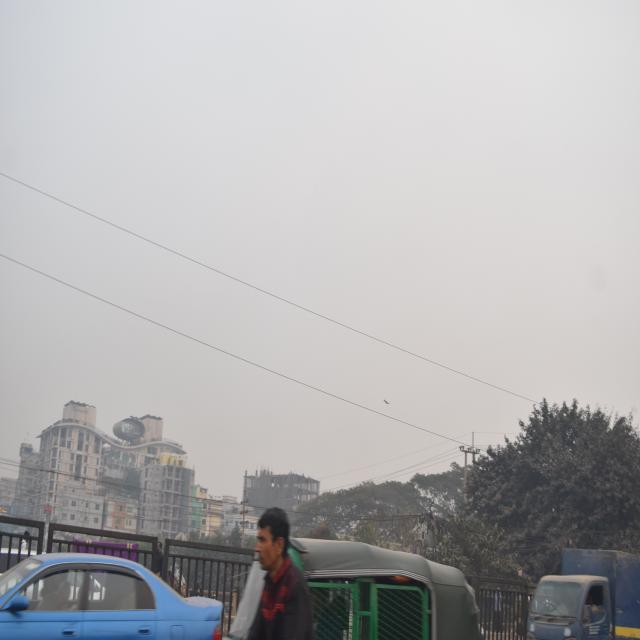car: (3, 545, 220, 640)
pickup-van: (523, 523, 638, 640)
